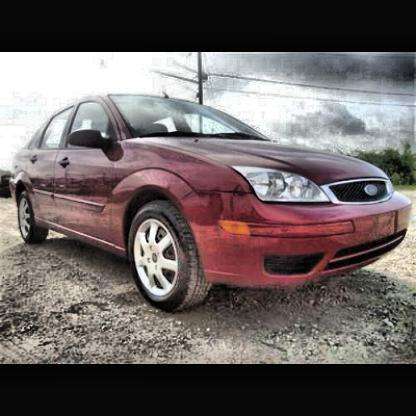Ford Focus Sedan 2007: (14, 88, 415, 316)
